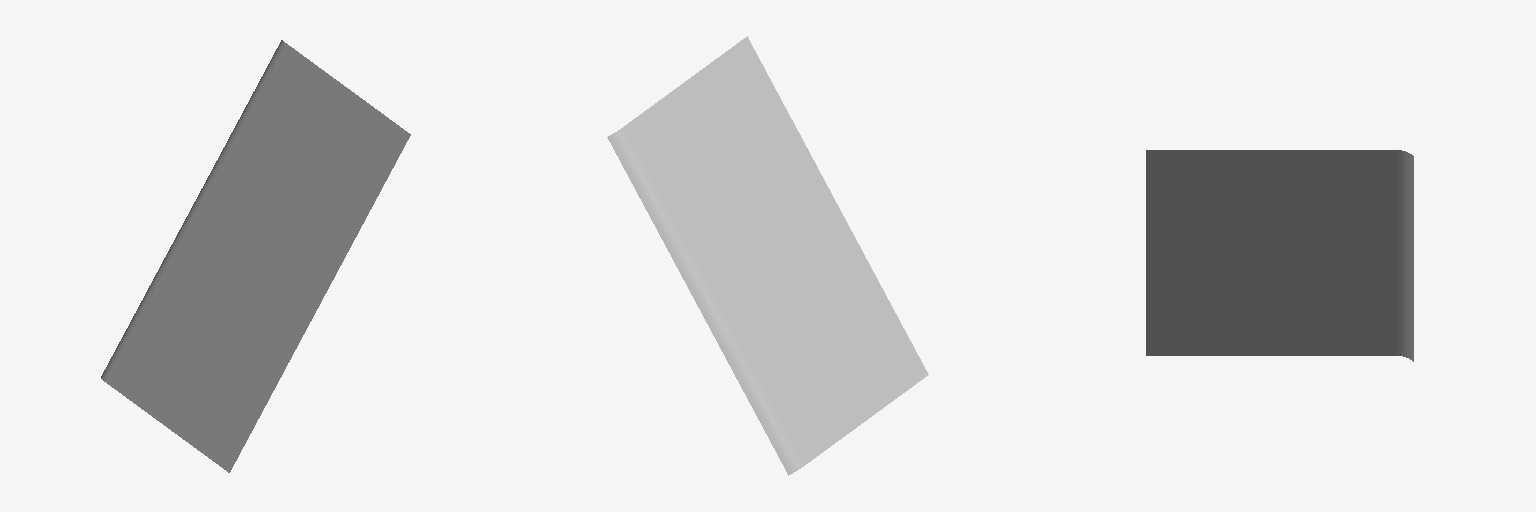
Rendered from Page_7-8_Plane_002.obj.
The picture shows the model from 3 angles: view 1: azimuth 30°, elevation 25°; view 2: azimuth 150°, elevation 25°; view 3: azimuth 270°, elevation 25°; orthographic projection.
Visible parts, largest first — view 1: Page_7-8_Plane.002; view 2: Page_7-8_Plane.002; view 3: Page_7-8_Plane.002.
Part boxes in pixels (left/top/right/bottom): Page_7-8_Plane.002: left=101, top=40, right=410, bottom=472; Page_7-8_Plane.002: left=607, top=36, right=928, bottom=475; Page_7-8_Plane.002: left=1146, top=150, right=1413, bottom=361.
Bounding box in the file's own units: 2.28 × 3.47 × 2.83.